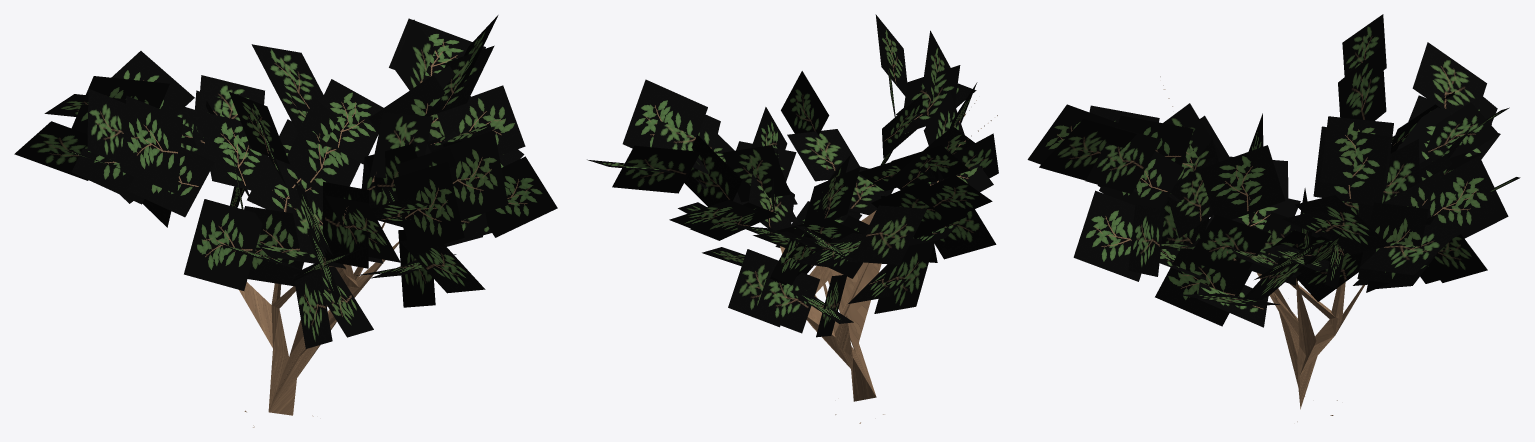
The model's file is Arbousier_V10_4_LOD2.fbx.
3 renders of one model, left to right at view 1: azimuth 30°, elevation 25°; view 2: azimuth 150°, elevation 25°; view 3: azimuth 270°, elevation 25°, orthographic. The views are drawn at different scales.
Parts seen in each view (by area): view 1: Arbousier_V10_4_LOD2; view 2: Arbousier_V10_4_LOD2; view 3: Arbousier_V10_4_LOD2.
Boxes of the visible parts, x1,y1,x2,y2 form: Arbousier_V10_4_LOD2: (14, 15, 557, 427); Arbousier_V10_4_LOD2: (587, 14, 998, 423); Arbousier_V10_4_LOD2: (1027, 14, 1520, 421).
Size of the model in its own units: 271 by 210 by 278.
